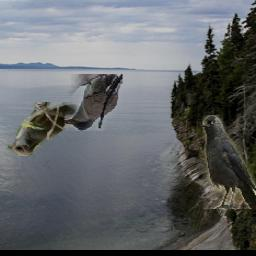Crow: (201, 115, 256, 209)
Cuckoo: (7, 102, 93, 156), (63, 75, 121, 132)
